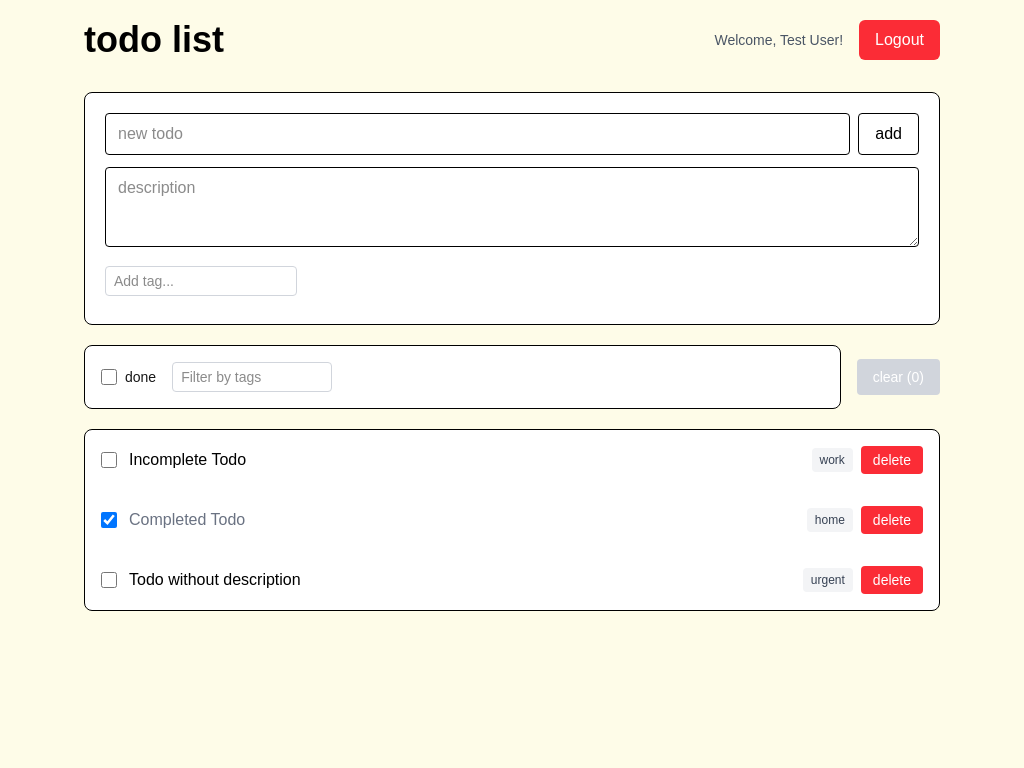
Test case: Todo App Main Page › Filter functionality › should show all todos when done filter is unchecked
Expected: the text "Incomplete Todo" is shown, [129,451,246,468]
Expected: the text "Completed Todo" is shown, [129,511,245,528]
What coordinates should you click on to do the following:
click the checkbox labelled "done"
I would click on:
 (109, 377)
Its box is [101,369,117,385].
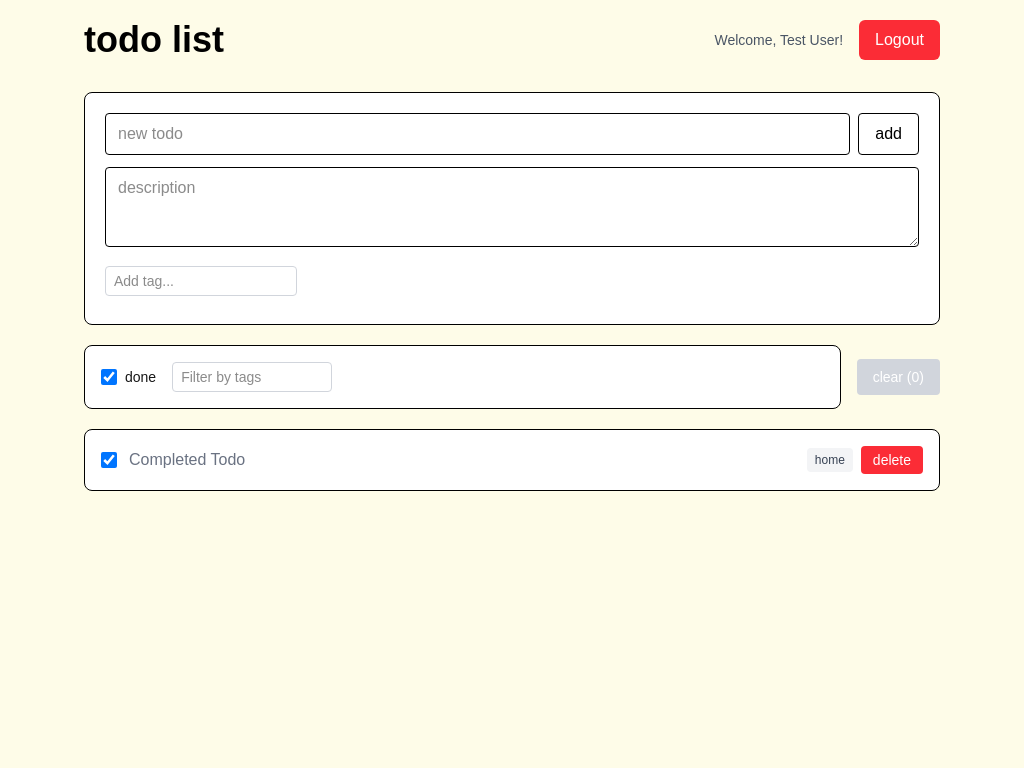
Expected: the text "Completed Todo" is shown, [129,451,245,468]
Expected: the text "Incomplete Todo" is gone
What coordinates should you click on to do the following:
click the checkbox labelled "done"
I would click on:
 (109, 377)
Its box is [101,369,117,385].
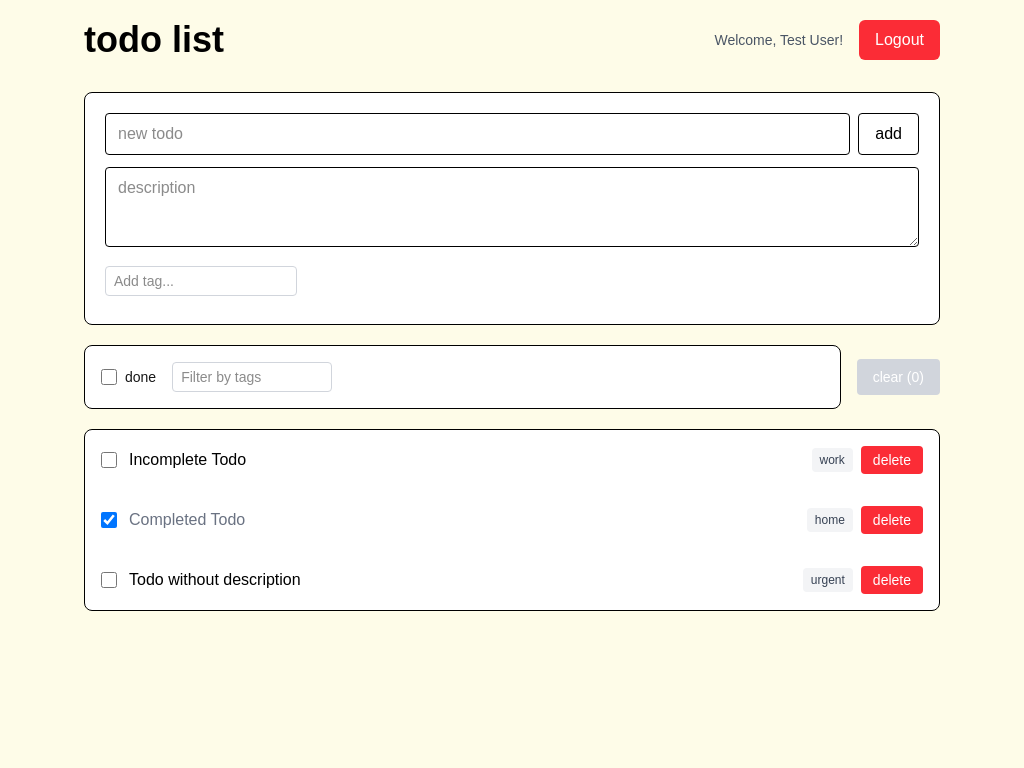
Expected: the text "Completed Todo" is shown, [129,511,245,528]
Expected: the text "Incomplete Todo" is shown, [129,451,246,468]
